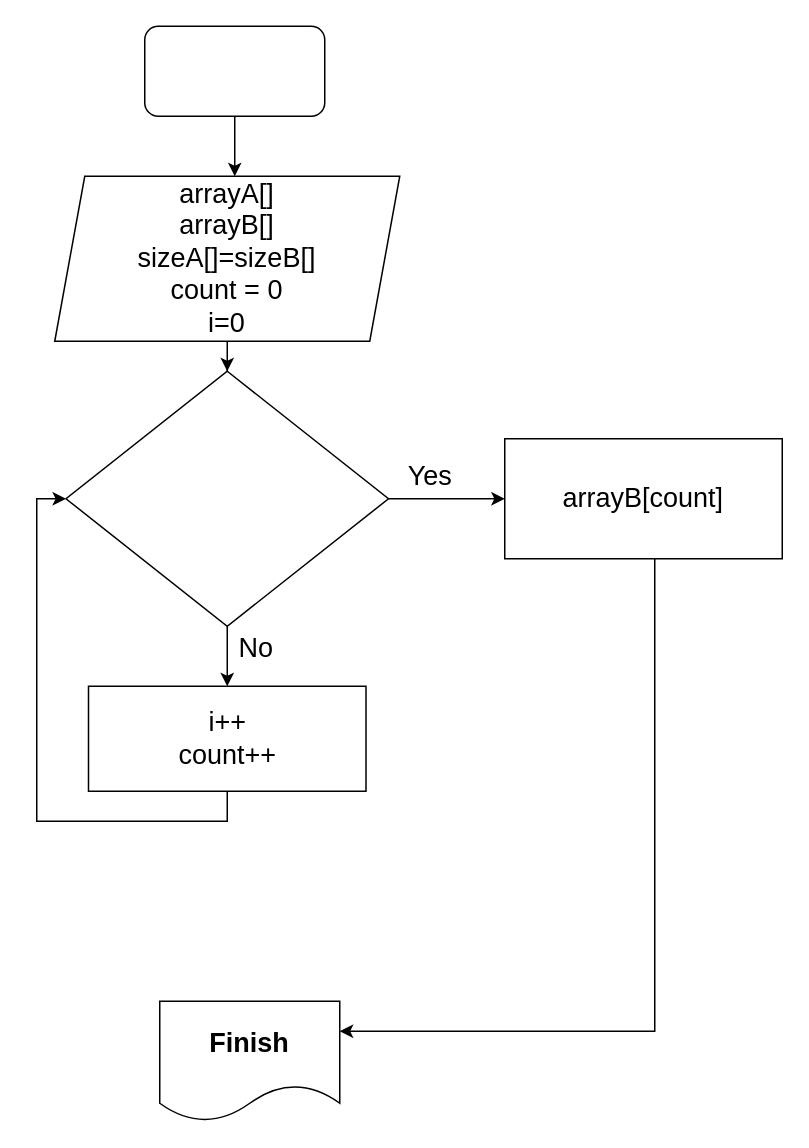
This 809x1148 diagram has some shape labels left out. The shapes that lost their labels are listed below. From the top down, each one's centre as x and y in pixels, then its label:
At point 234,70: "Start".
At point 226,498: "if arrayA[i].Length<=3".
